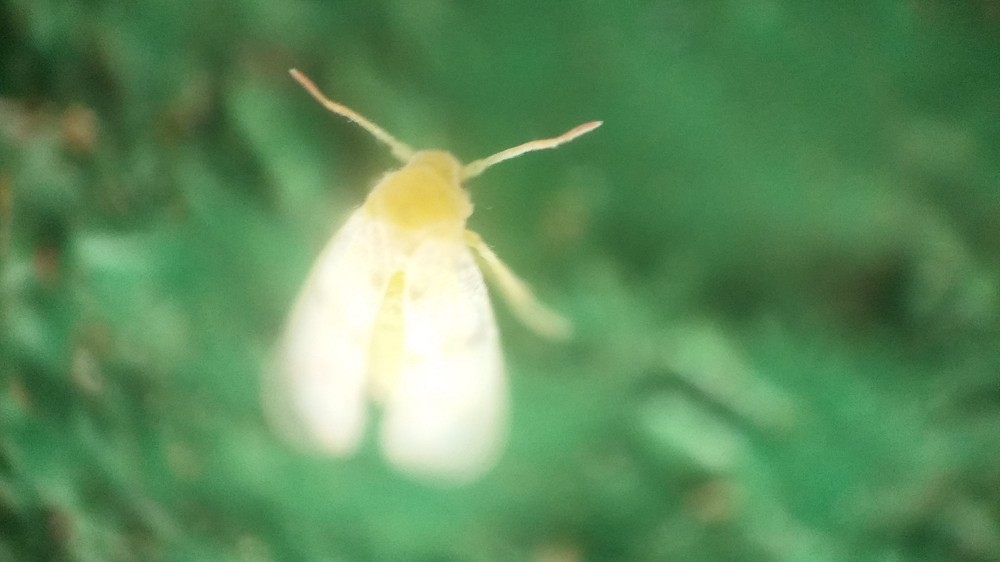Mosca Blanca: (230, 60, 636, 495)
